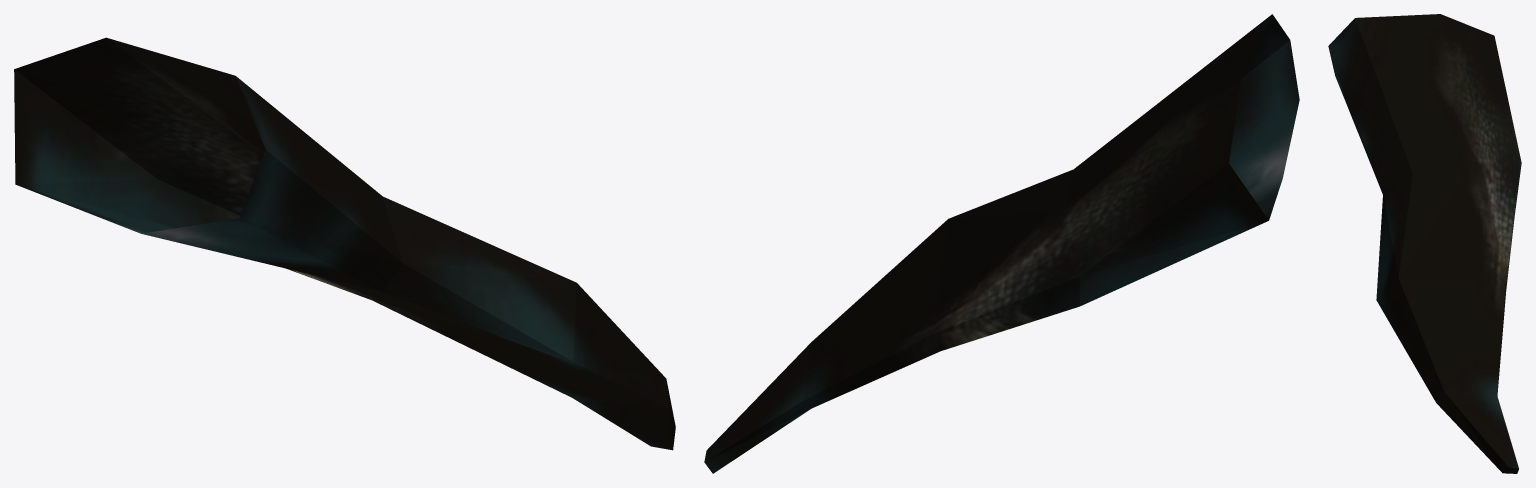
Rendered from Ala_der.obj.
The picture shows the model from 3 angles, left to right: view 1: azimuth 30°, elevation 25°; view 2: azimuth 150°, elevation 25°; view 3: azimuth 270°, elevation 25°; orthographic projection. The views are drawn at different scales.
Visible parts, largest first — view 1: pasted__Ala_izq_polySurface4 group1; view 2: pasted__Ala_izq_polySurface4 group1; view 3: pasted__Ala_izq_polySurface4 group1.
Boxes of the visible parts, x1=… form: pasted__Ala_izq_polySurface4 group1: x1=14, y1=37, x2=675, y2=450; pasted__Ala_izq_polySurface4 group1: x1=704, y1=14, x2=1299, y2=473; pasted__Ala_izq_polySurface4 group1: x1=1328, y1=14, x2=1521, y2=473.
Size of the model in its own units: 0.5726 by 0.4913 by 0.2732.
Materials: 1 (1 with a texture image).
